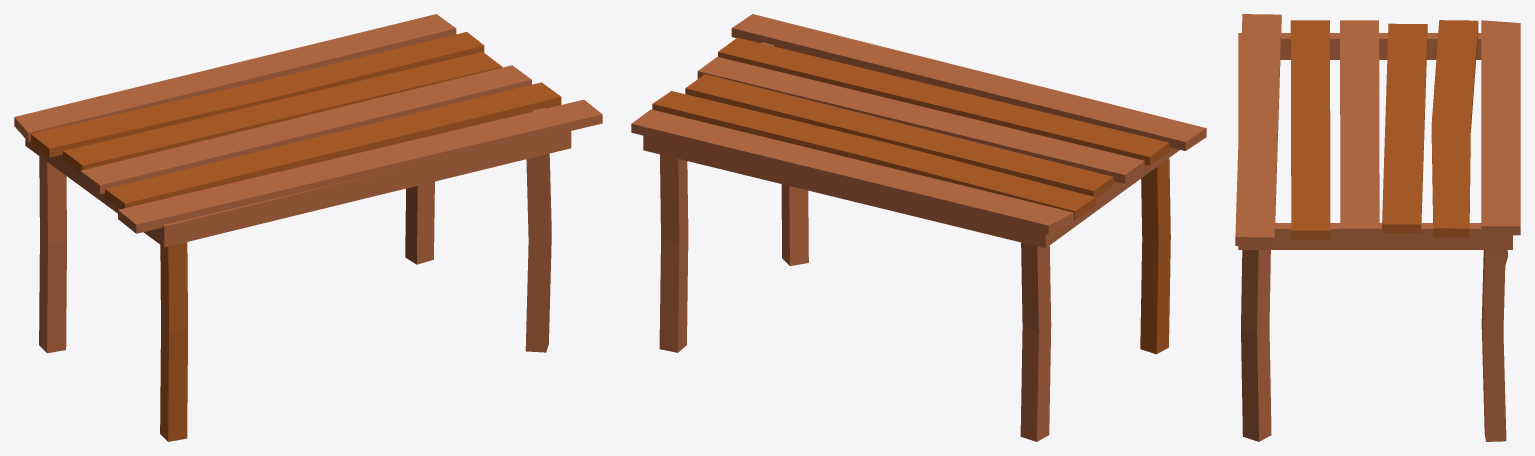
The model's file is TableWood.fbx.
The picture shows the model from 3 angles, left to right: view 1: azimuth 30°, elevation 25°; view 2: azimuth 150°, elevation 25°; view 3: azimuth 270°, elevation 25°; orthographic projection.
Parts seen in each view (by area): view 1: Cube.005; view 2: Cube.005; view 3: Cube.005.
Part boxes in pixels (x1,y1,x2,y2): Cube.005: (14,14,602,441); Cube.005: (631,14,1206,441); Cube.005: (1235,14,1520,441).
Size of the model in its own units: 619 by 291 by 334.
